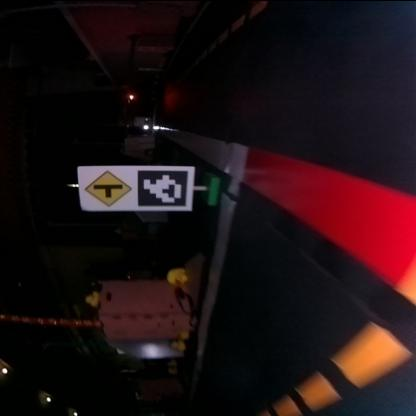Duckie: (164, 266, 186, 283), (85, 290, 98, 305), (170, 340, 184, 350)
Duckiebot: (141, 116, 151, 128)
Intersection sign: (81, 166, 132, 206)
QR code: (136, 166, 190, 206)
Traffic light: (127, 93, 134, 99)
